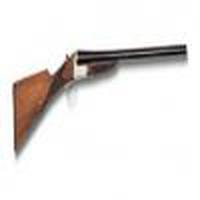gun: (8, 44, 190, 146)
